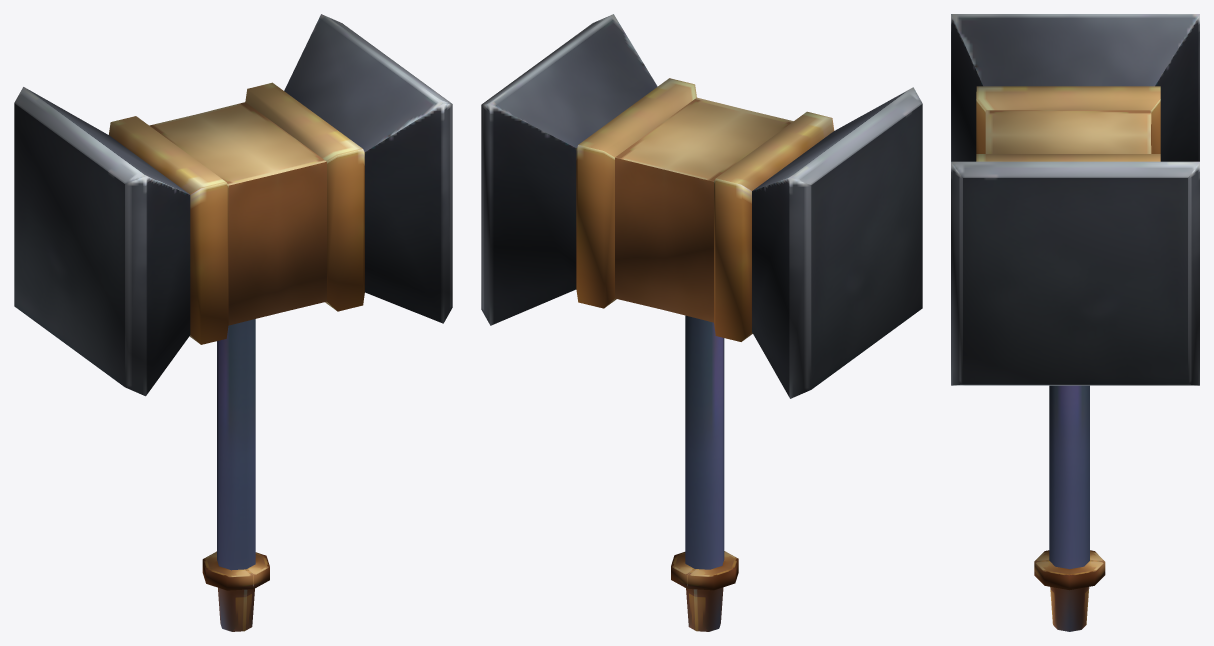
File: chuizi.FBX
The picture shows the model from 3 angles, left to right: view 1: azimuth 30°, elevation 25°; view 2: azimuth 150°, elevation 25°; view 3: azimuth 270°, elevation 25°; orthographic projection.
Visible parts, largest first — view 1: chuizi; view 2: chuizi; view 3: chuizi.
Boxes of the visible parts, box(x1,y1,x2,y2) form: chuizi: box(14, 14, 452, 631); chuizi: box(481, 14, 922, 631); chuizi: box(951, 14, 1199, 631).
Size of the model in its own units: 100 by 154 by 64.67.
Materials: 1 (1 with a texture image).
